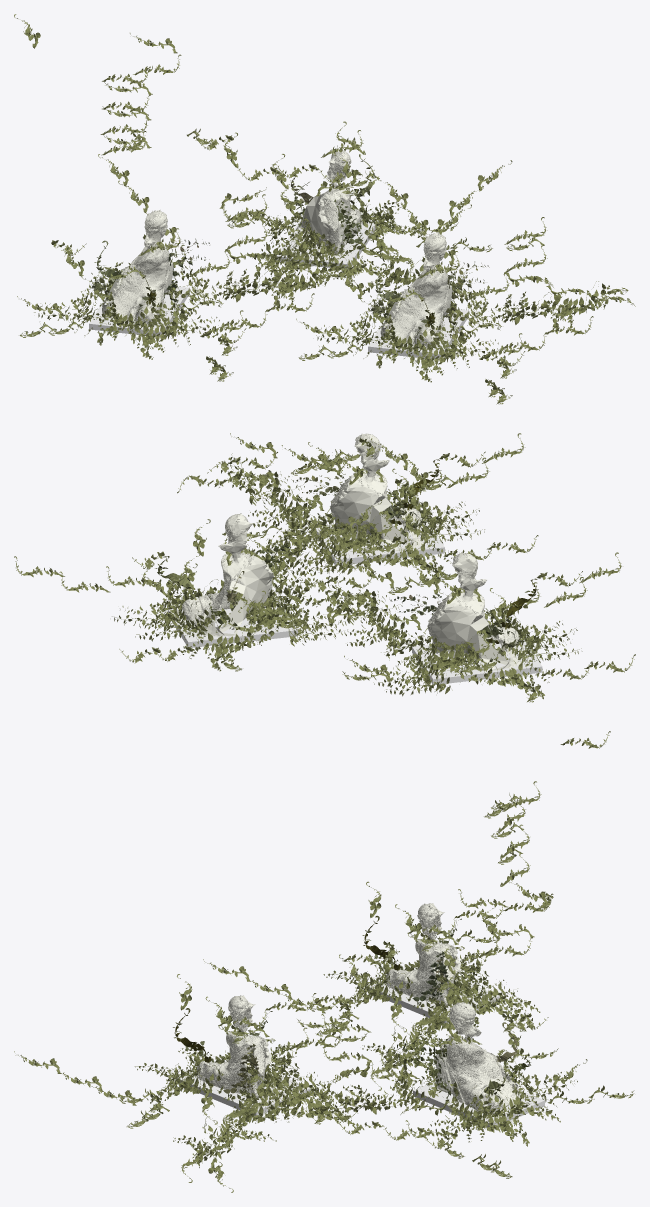
Rendered from project8.glb.
The picture shows the model from 3 angles, top to bottom: view 1: azimuth 30°, elevation 25°; view 2: azimuth 150°, elevation 25°; view 3: azimuth 270°, elevation 25°; orthographic projection. The views are drawn at different scales.
Parts seen in each view (by area): view 1: GDLM61_model_material_2; view 2: GDLM61_model_material_2; view 3: GDLM61_model_material_2.
Boxes of the visible parts, x1=… form: GDLM61_model_material_2: x1=14, y1=14, x2=635, y2=404; GDLM61_model_material_2: x1=14, y1=433, x2=635, y2=702; GDLM61_model_material_2: x1=14, y1=731, x2=634, y2=1192.
Bounding box in the file's own units: 9.83 × 4.48 × 9.64.
Materials: 3 (1 with a texture image).
